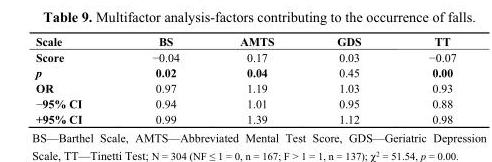table: (34, 34, 455, 125)
table column: (209, 34, 304, 125), (116, 34, 209, 125), (304, 34, 394, 125), (34, 34, 116, 125), (394, 34, 455, 125)
table column header: (34, 34, 455, 48)
table row: (34, 48, 455, 64), (34, 64, 455, 80), (34, 80, 455, 95), (34, 95, 455, 110), (34, 110, 455, 125), (34, 34, 455, 48)
